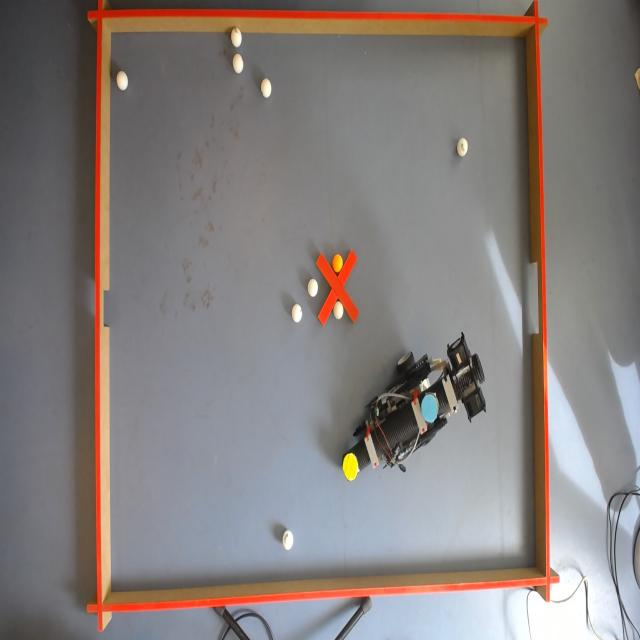orange: (332, 254, 342, 272)
robot: (342, 332, 493, 490)
robot-front: (343, 452, 361, 479)
robot-rear: (420, 390, 438, 430)
white: (232, 53, 246, 75), (260, 78, 274, 100), (230, 27, 243, 47), (282, 529, 293, 551), (117, 71, 128, 93), (306, 281, 319, 299), (457, 137, 469, 155), (291, 305, 302, 321), (332, 303, 342, 320)
